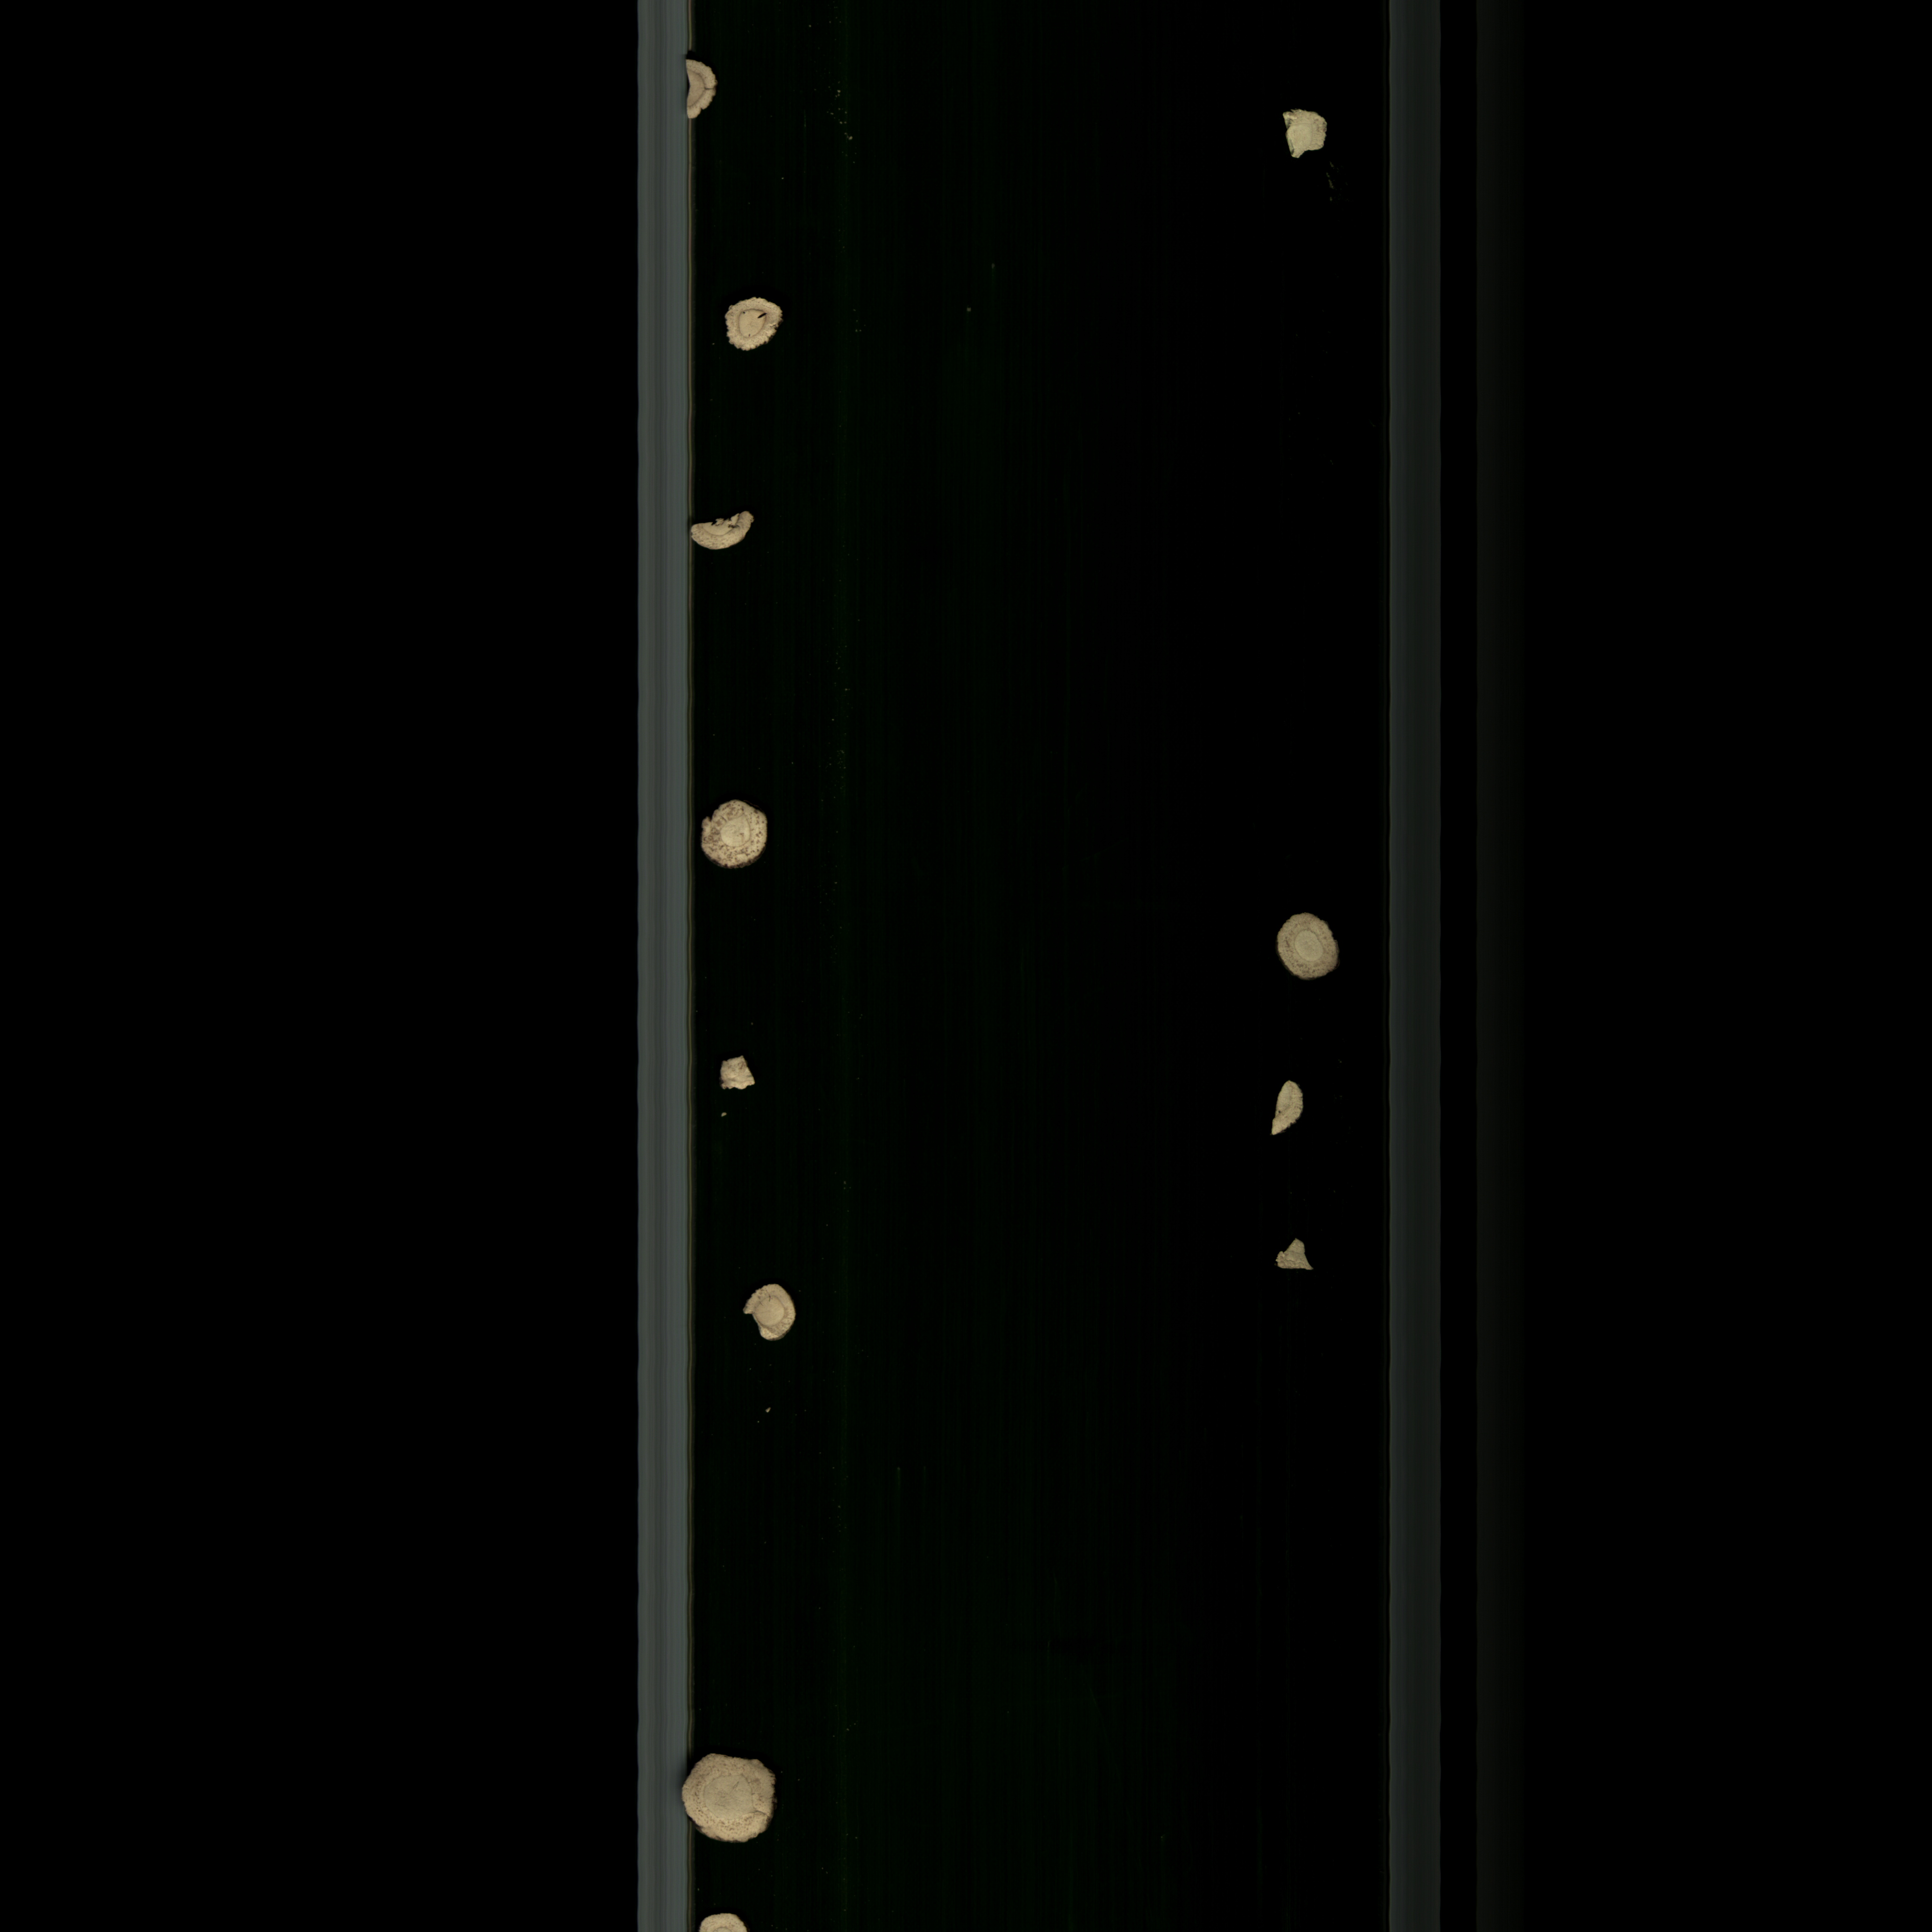debris: (671, 1744, 793, 1852), (732, 1274, 805, 1352), (1265, 101, 1334, 166)
dreg: (1270, 1074, 1313, 1146), (1272, 1235, 1329, 1284), (717, 1051, 764, 1099)
moldy: (695, 791, 778, 874), (722, 294, 794, 364), (685, 510, 773, 556), (679, 51, 725, 126)
